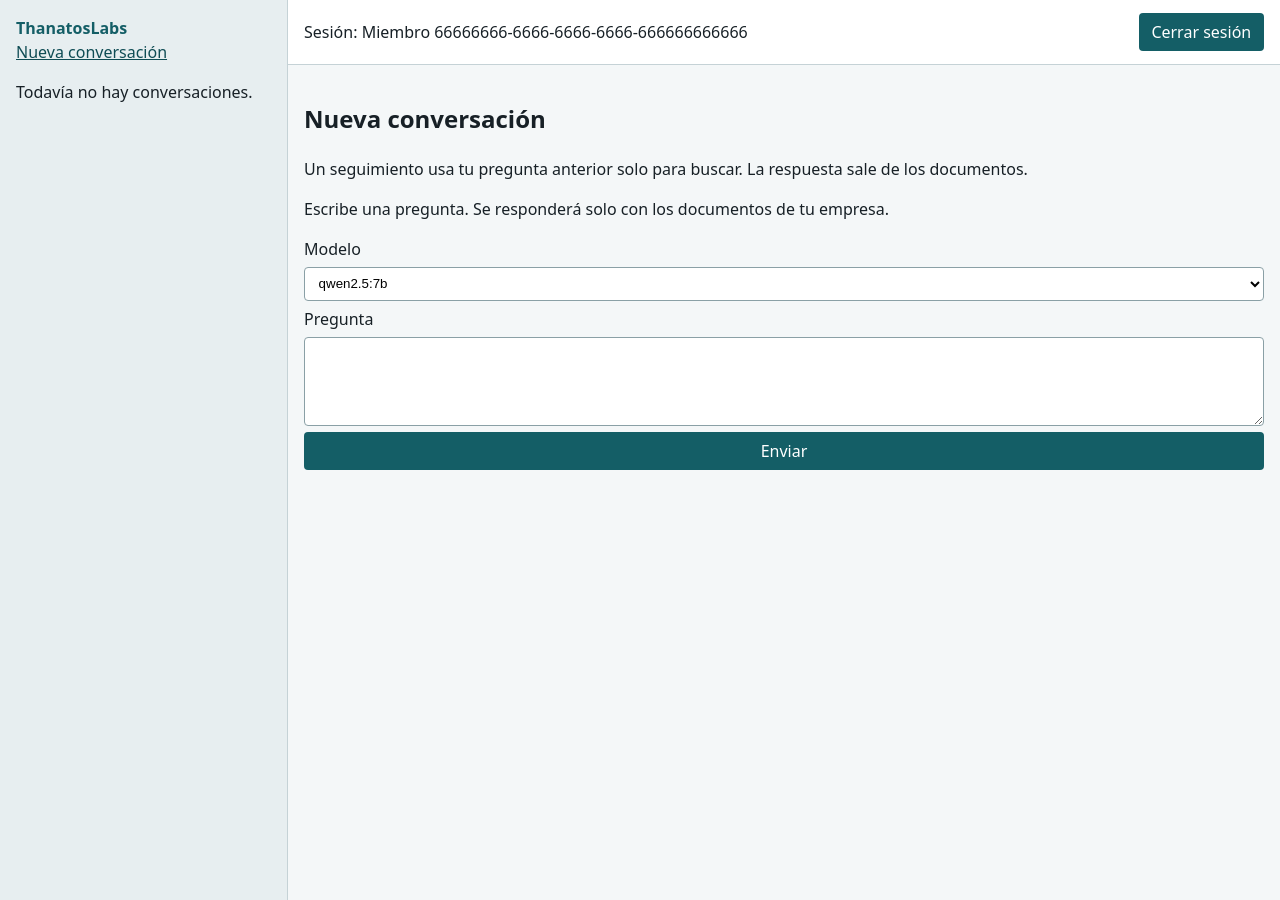
muestra la respuesta y una cita expandible sin el score
Step 1. Type "¿Cuántos días de vacaciones hay?" into the text box labelled "Pregunta" → x=784, y=382, box [304,337,1264,426]
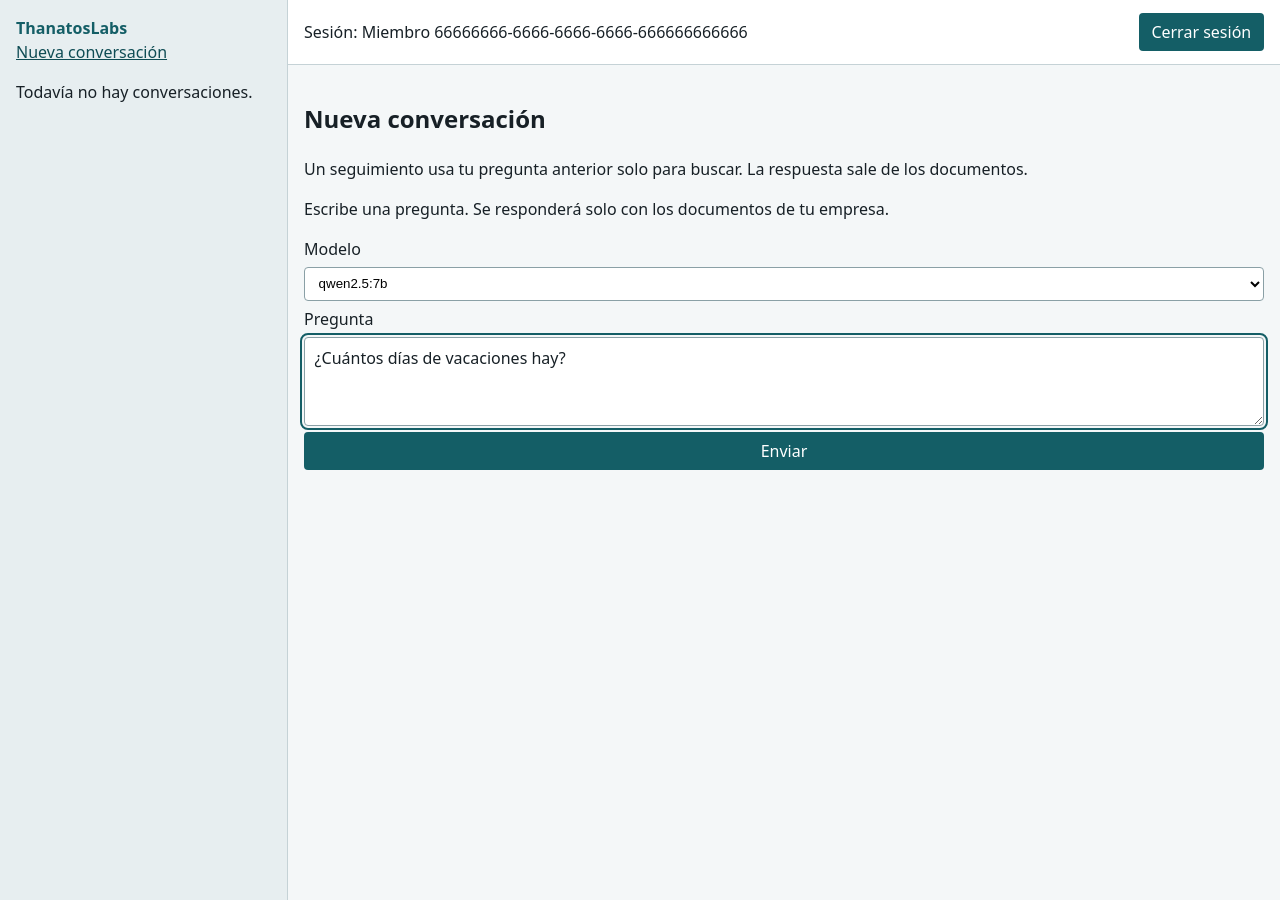
Step 2. Click the button "Enviar" → x=784, y=451, box [304,432,1264,470]
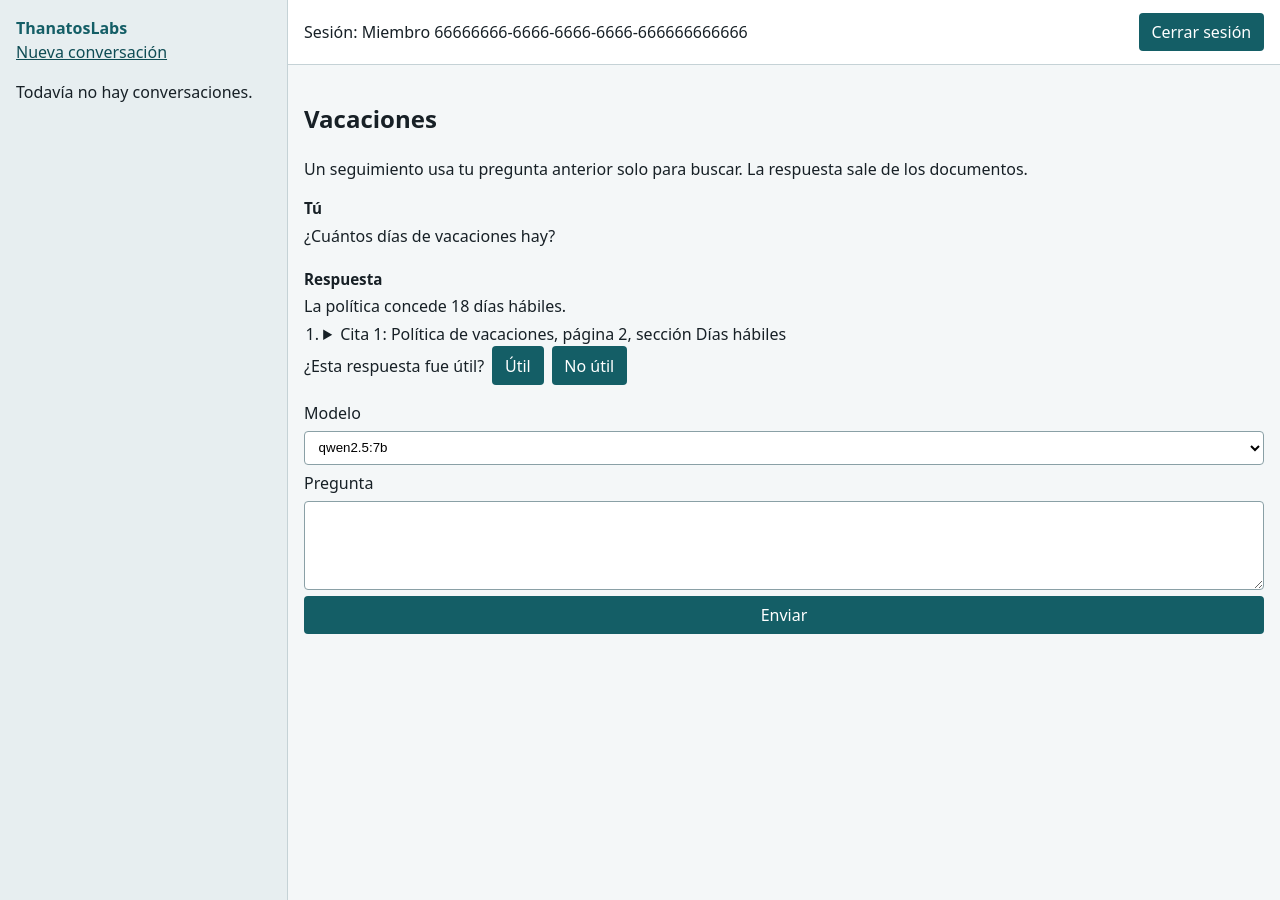
Expected: the text "La política concede 18 días hábiles." is shown, [304,295,566,317]
Step 3. Click the heading that starts with "Cita" → x=563, y=334, box [340,323,786,345]
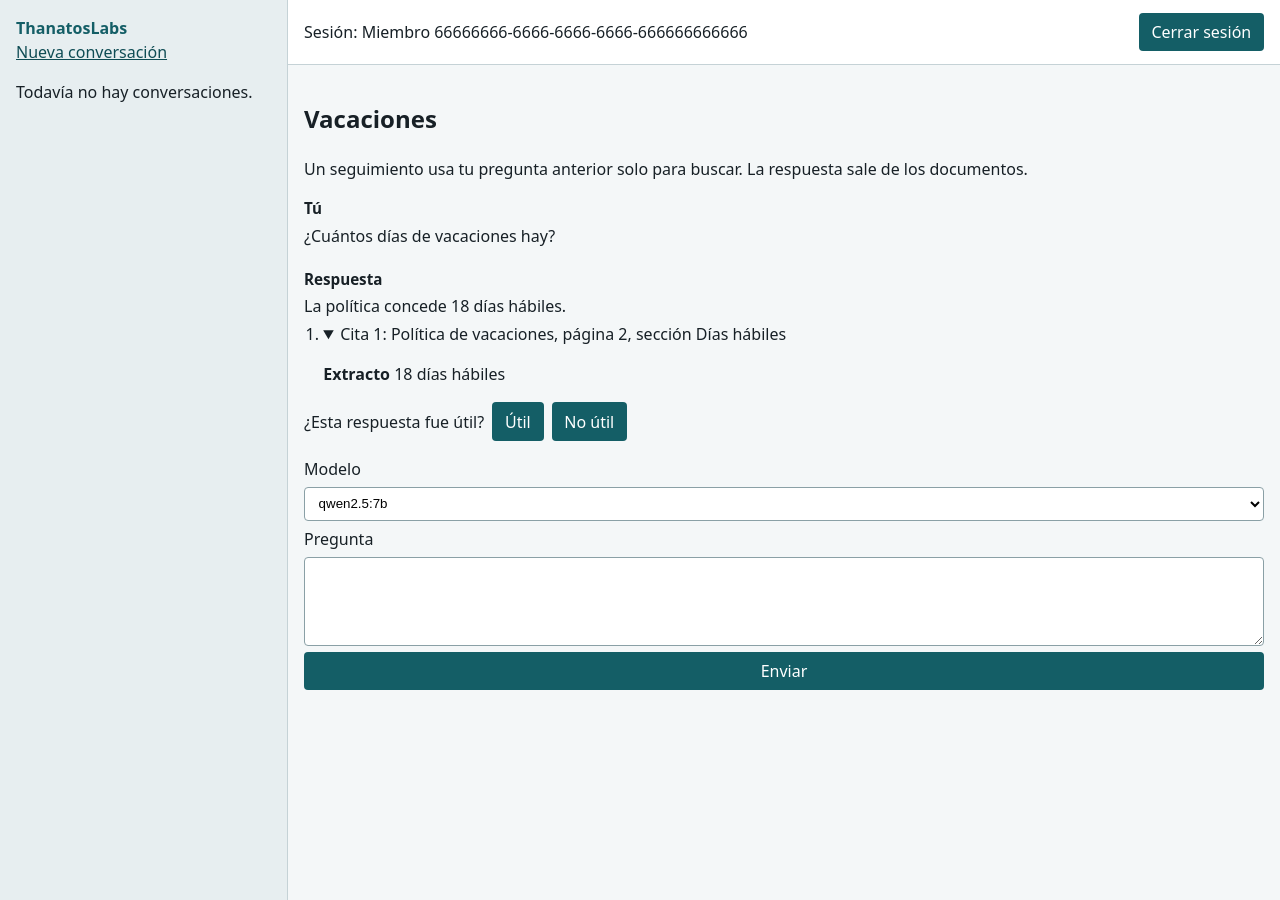
Expected: the text "Un seguimiento usa tu pregunta anterior solo para buscar. La respuesta sale de los documentos." is shown, [304,158,1028,180]
Expected: the text "18 días hábiles" is shown, [394,363,505,385]
